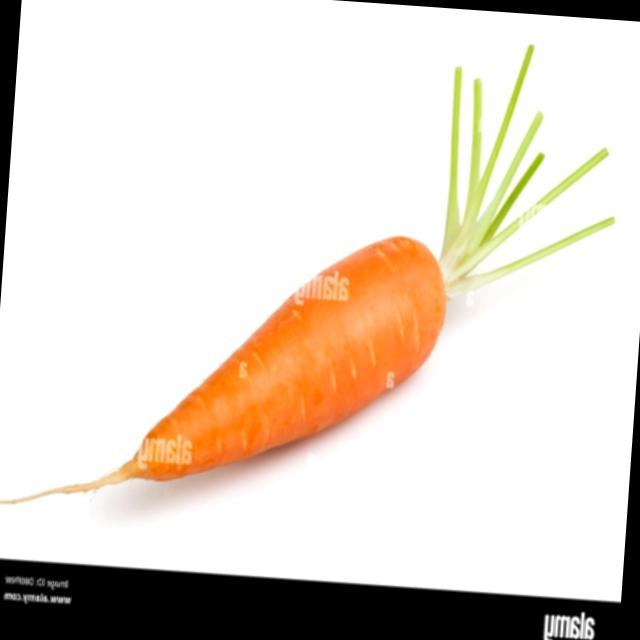carrot: (0, 46, 615, 504)
